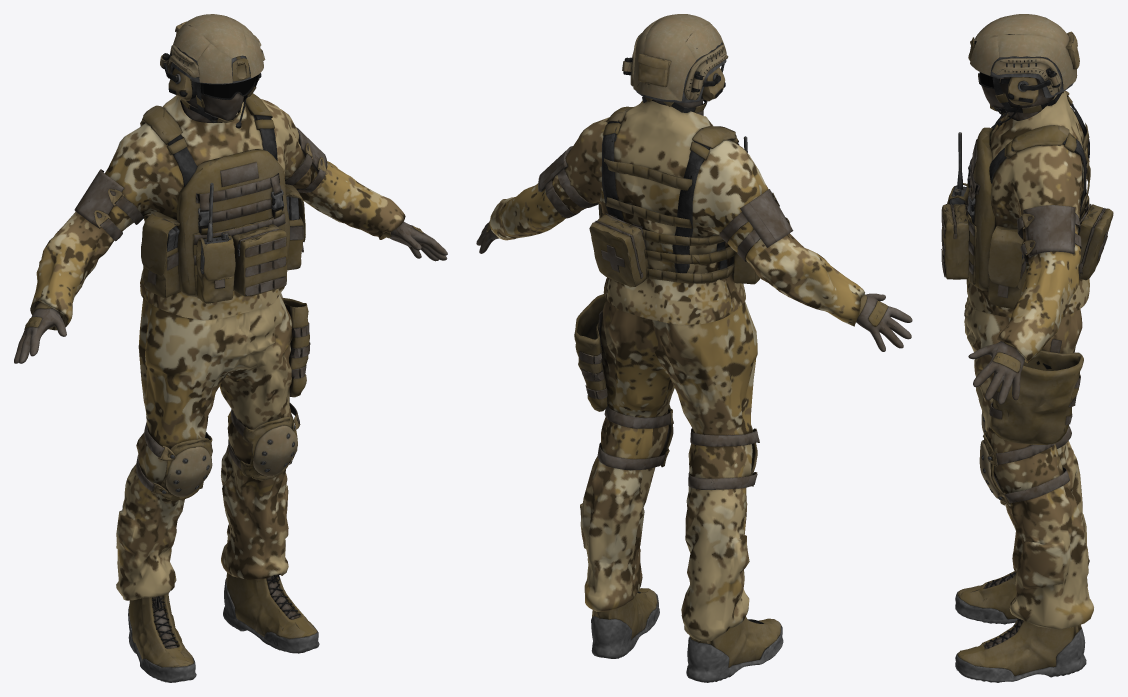
File: SandSoldierOut.obj
The picture shows the model from 3 angles, left to right: view 1: azimuth 30°, elevation 25°; view 2: azimuth 150°, elevation 25°; view 3: azimuth 270°, elevation 25°; orthographic projection.
Size of the model in its own units: 1.37 by 1.93 by 0.4791.
Materials: 2 (1 with a texture image).
